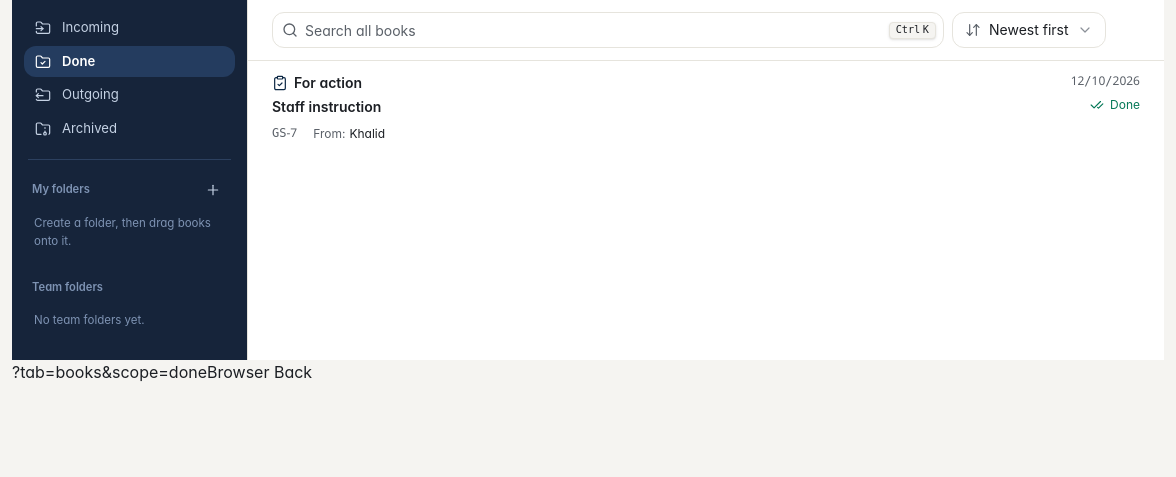
Test: Books routing desk › undoes done in Done and returns the book to Incoming
Click the button "GS-7" at {"x": 328, "y": 82}, box [248,61,1164,154]
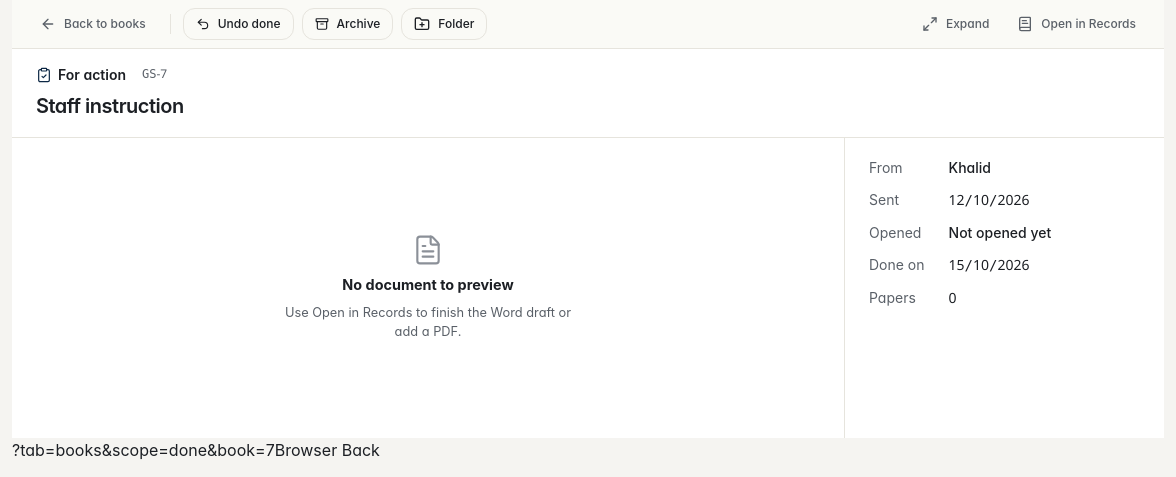
Click the button "Undo done" at {"x": 238, "y": 24}, box [183,8,294,40]
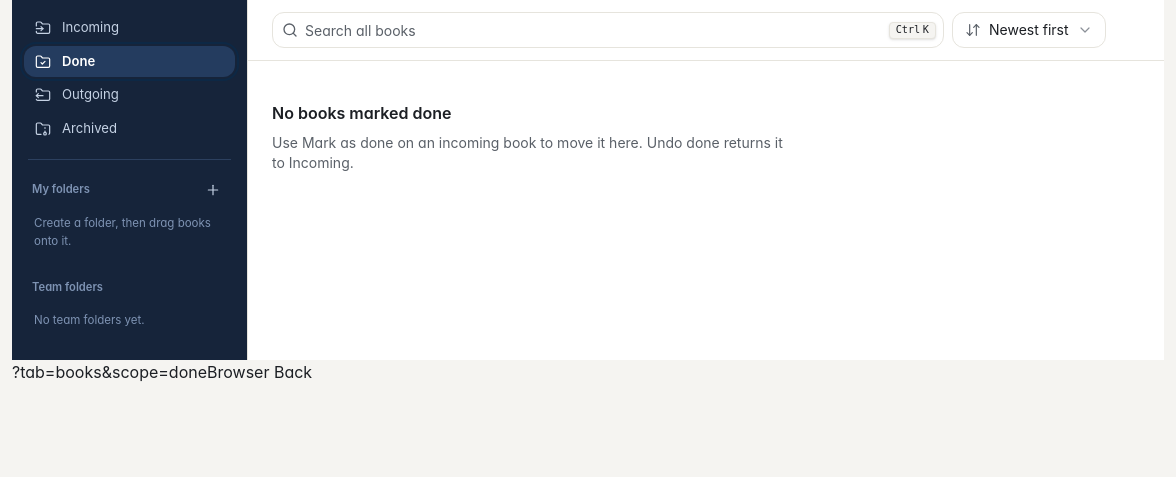
Expected: the text labelled "URL" no longer shows "book="
Expected: the text "GS-7" is gone
Click the button "Incoming" at {"x": 130, "y": 28}, box [24,12,235,44]
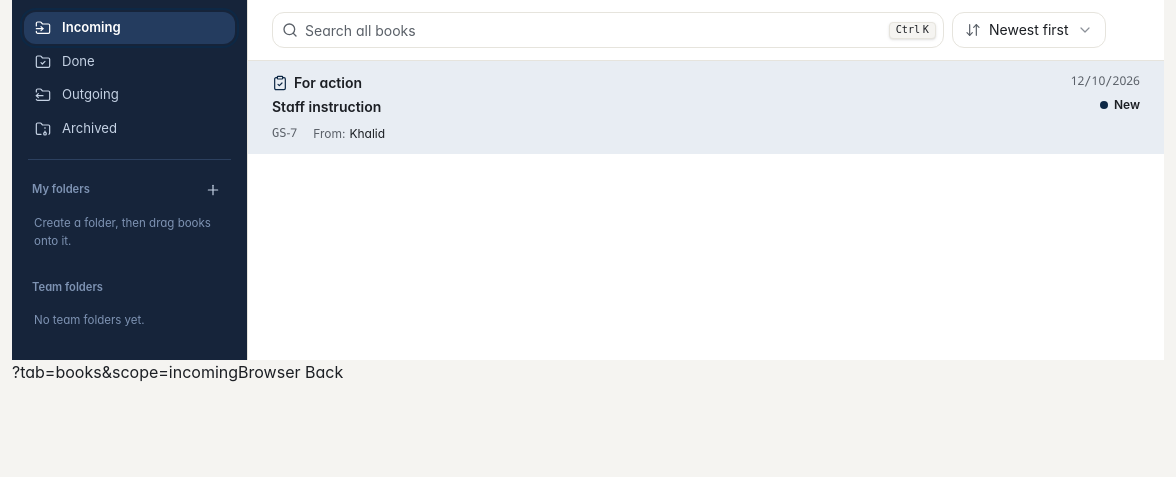
Expected: the button "GS-7" is shown, [248,61,1164,154]
